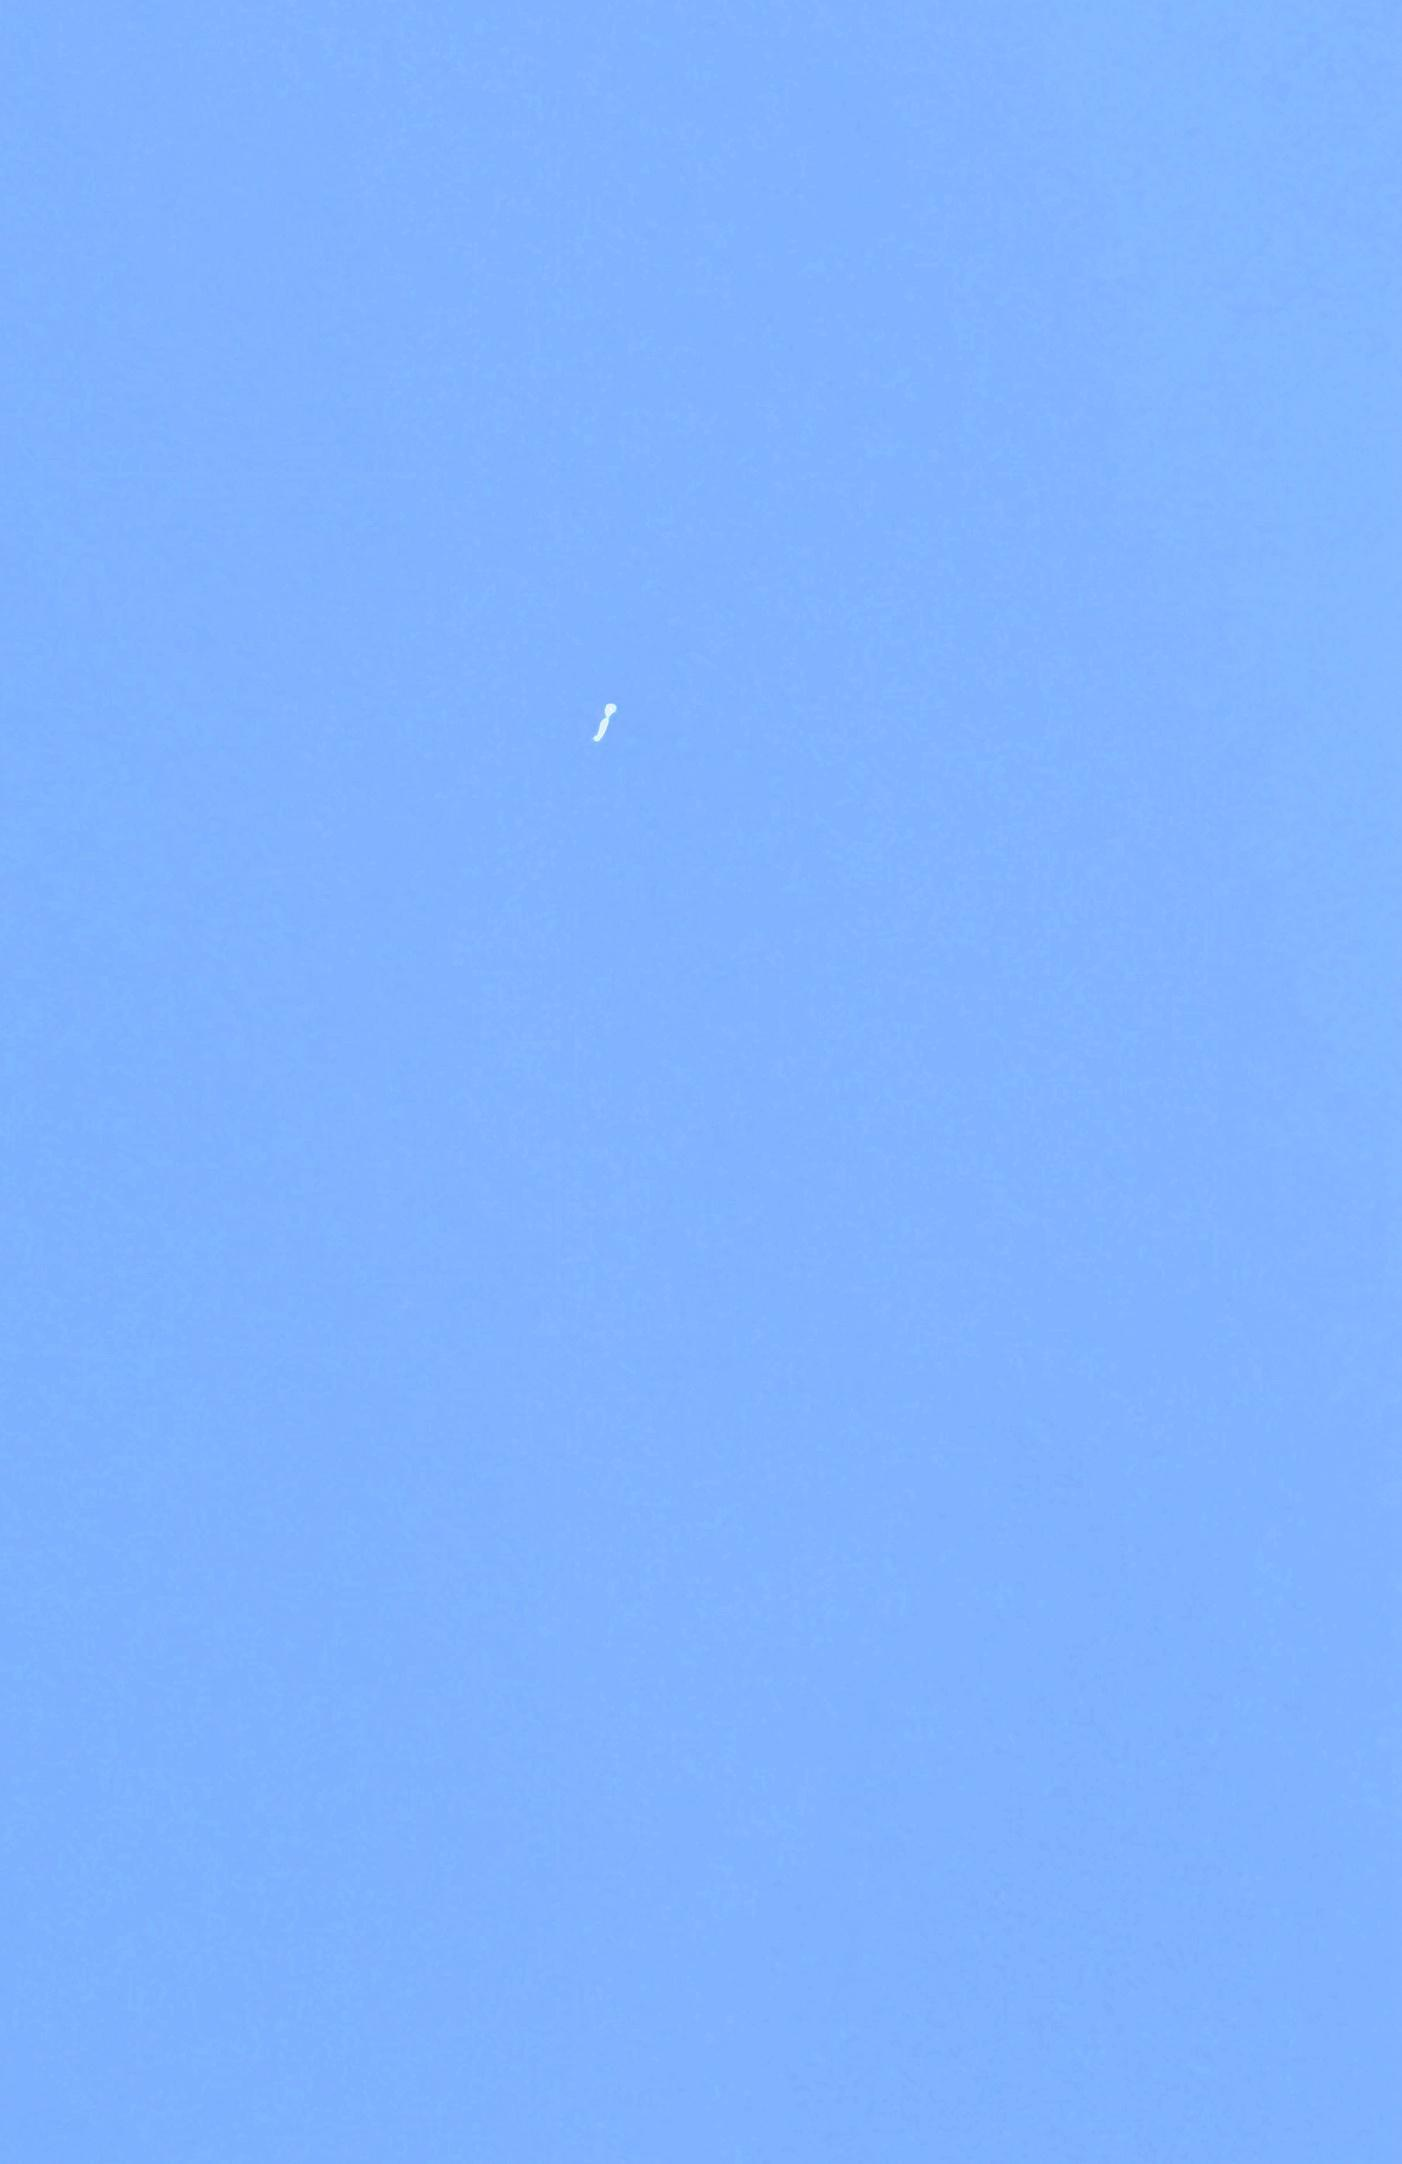Plane: (538, 669, 661, 771)
